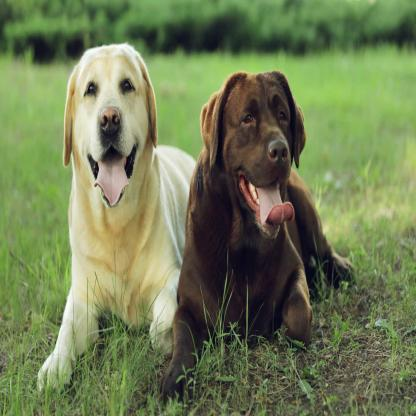dog: (159, 67, 355, 401), (32, 40, 196, 394)
